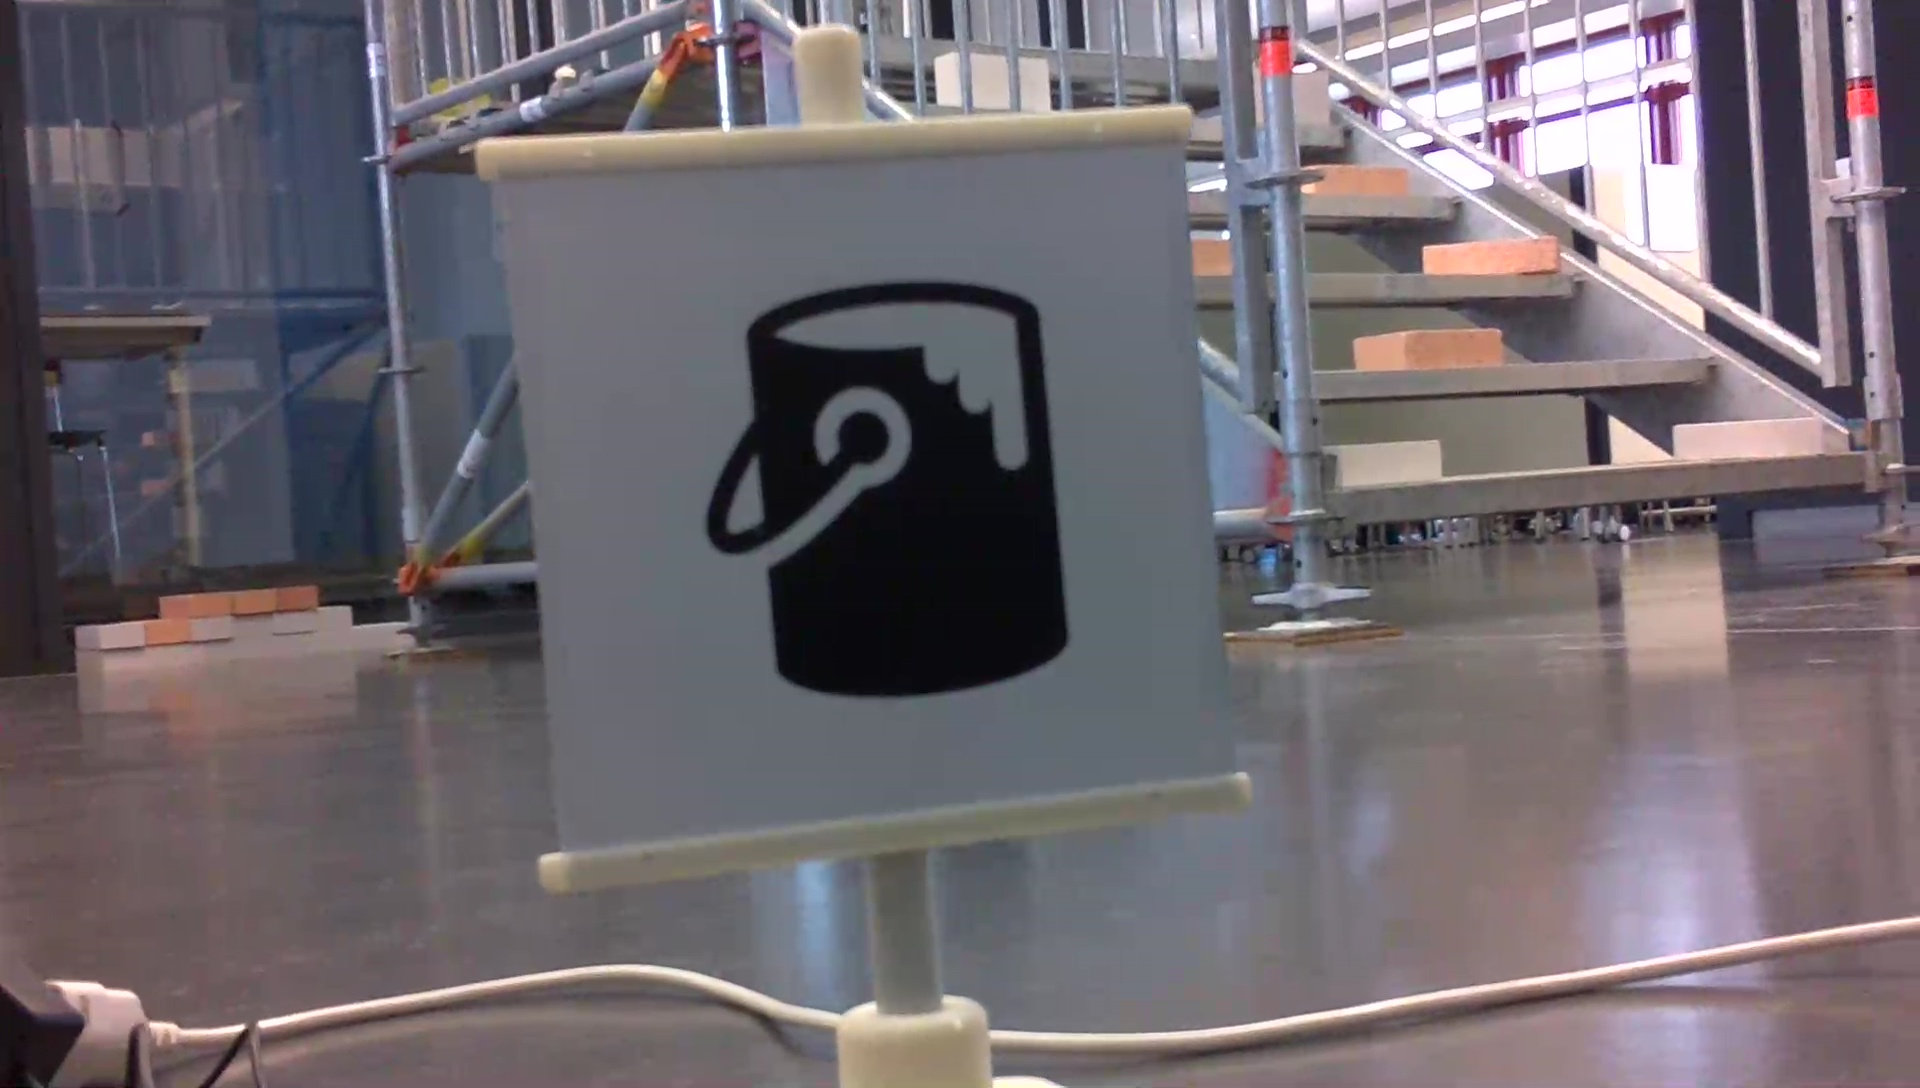brick: (1356, 327, 1499, 368), (1677, 419, 1822, 458), (1332, 440, 1437, 483), (1424, 240, 1557, 270), (1312, 165, 1410, 195), (1292, 75, 1329, 123)
bucket: (688, 270, 1085, 711)
edge: (1340, 458, 1859, 521), (1315, 357, 1714, 398)
